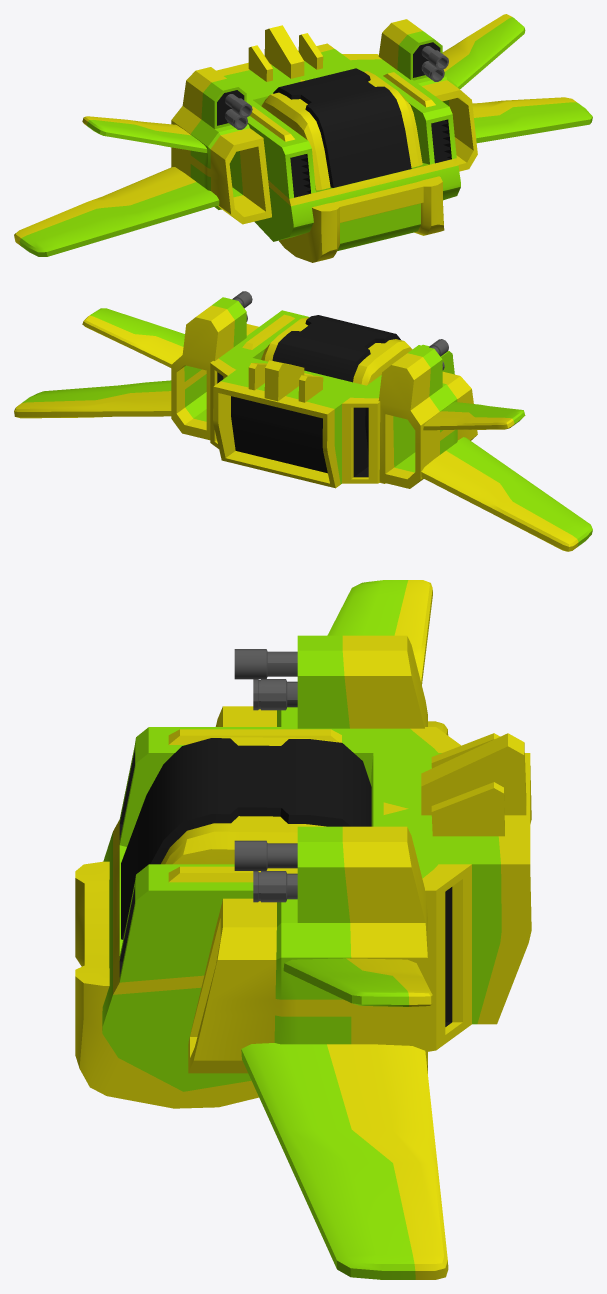
Rendered from Ship_Weak.fbx.
The picture shows the model from 3 angles, top to bottom: view 1: azimuth 30°, elevation 25°; view 2: azimuth 150°, elevation 25°; view 3: azimuth 270°, elevation 25°; orthographic projection. The views are drawn at different scales.
Parts seen in each view (by area): view 1: Spaceship_FinnTheFrog; view 2: Spaceship_FinnTheFrog; view 3: Spaceship_FinnTheFrog.
Part boxes in pixels (left/top/right/bottom): Spaceship_FinnTheFrog: left=14, top=14, right=592, bottom=262; Spaceship_FinnTheFrog: left=14, top=291, right=592, bottom=551; Spaceship_FinnTheFrog: left=75, top=580, right=531, bottom=1279.
Size of the model in its own units: 1162 by 306 by 411.
